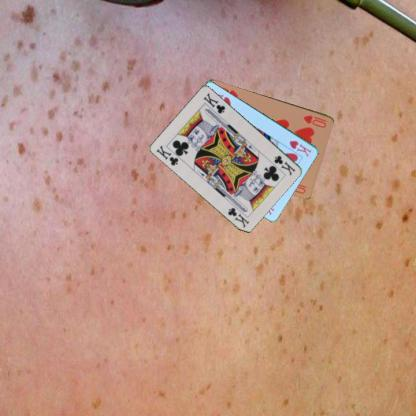10h: (301, 112, 329, 129)
Kc: (154, 142, 180, 167), (272, 152, 297, 177)
Kh: (287, 138, 312, 158)
